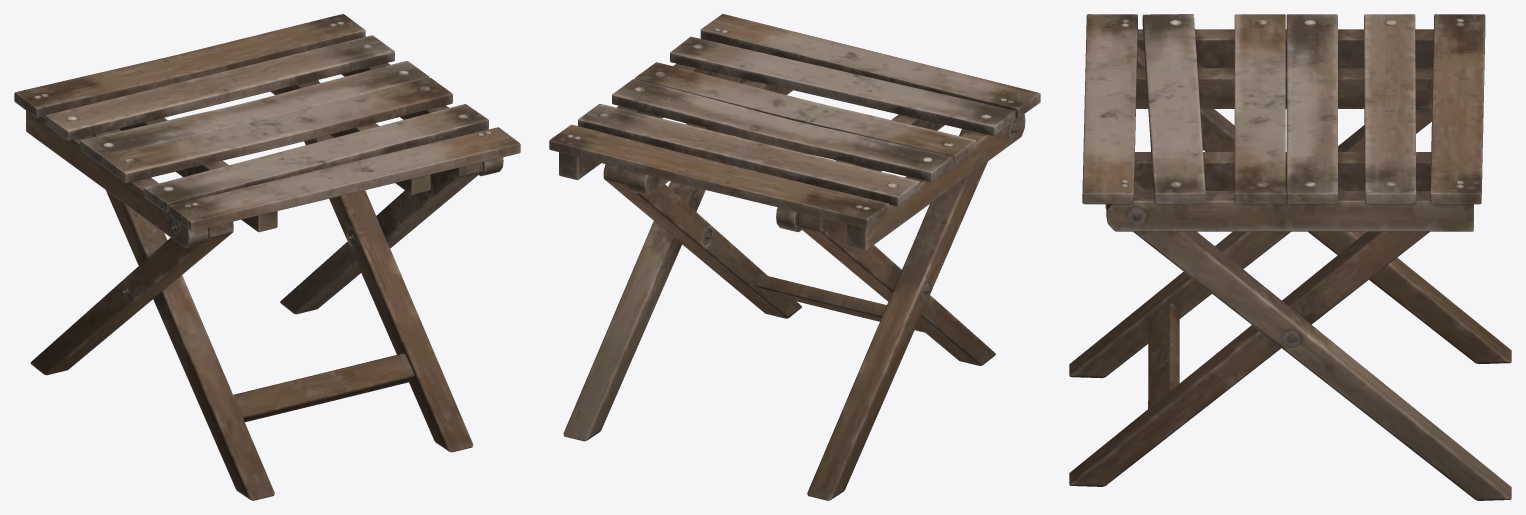
File: folding_wooden_stool.glb
3 views of the same model, side by side, from view 1: azimuth 30°, elevation 25°; view 2: azimuth 150°, elevation 25°; view 3: azimuth 270°, elevation 25° (orthographic). The views are drawn at different scales.
Parts seen in each view (by area): view 1: folding_wooden_stool; view 2: folding_wooden_stool; view 3: folding_wooden_stool.
Part boxes in pixels (box(x1,y1,x2,y2)): folding_wooden_stool: box(14, 14, 520, 500); folding_wooden_stool: box(549, 14, 1040, 500); folding_wooden_stool: box(1069, 14, 1511, 500).
Size of the model in its own units: 0.5278 by 0.442 by 0.5471.
1 material, 1 textured.
